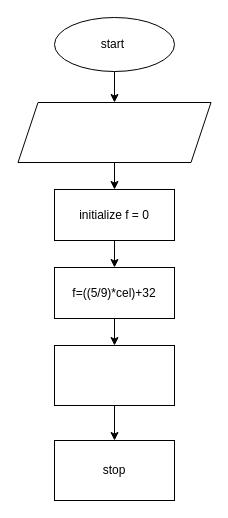
Image size: 228x518. Some labels were removed from this diagram. Here are the shapes that lost their labels. From the top down, the box of each, then its label:
(17, 102, 211, 162): read the temperature to be converted from the user: cel
(54, 344, 174, 406): display the value of f
